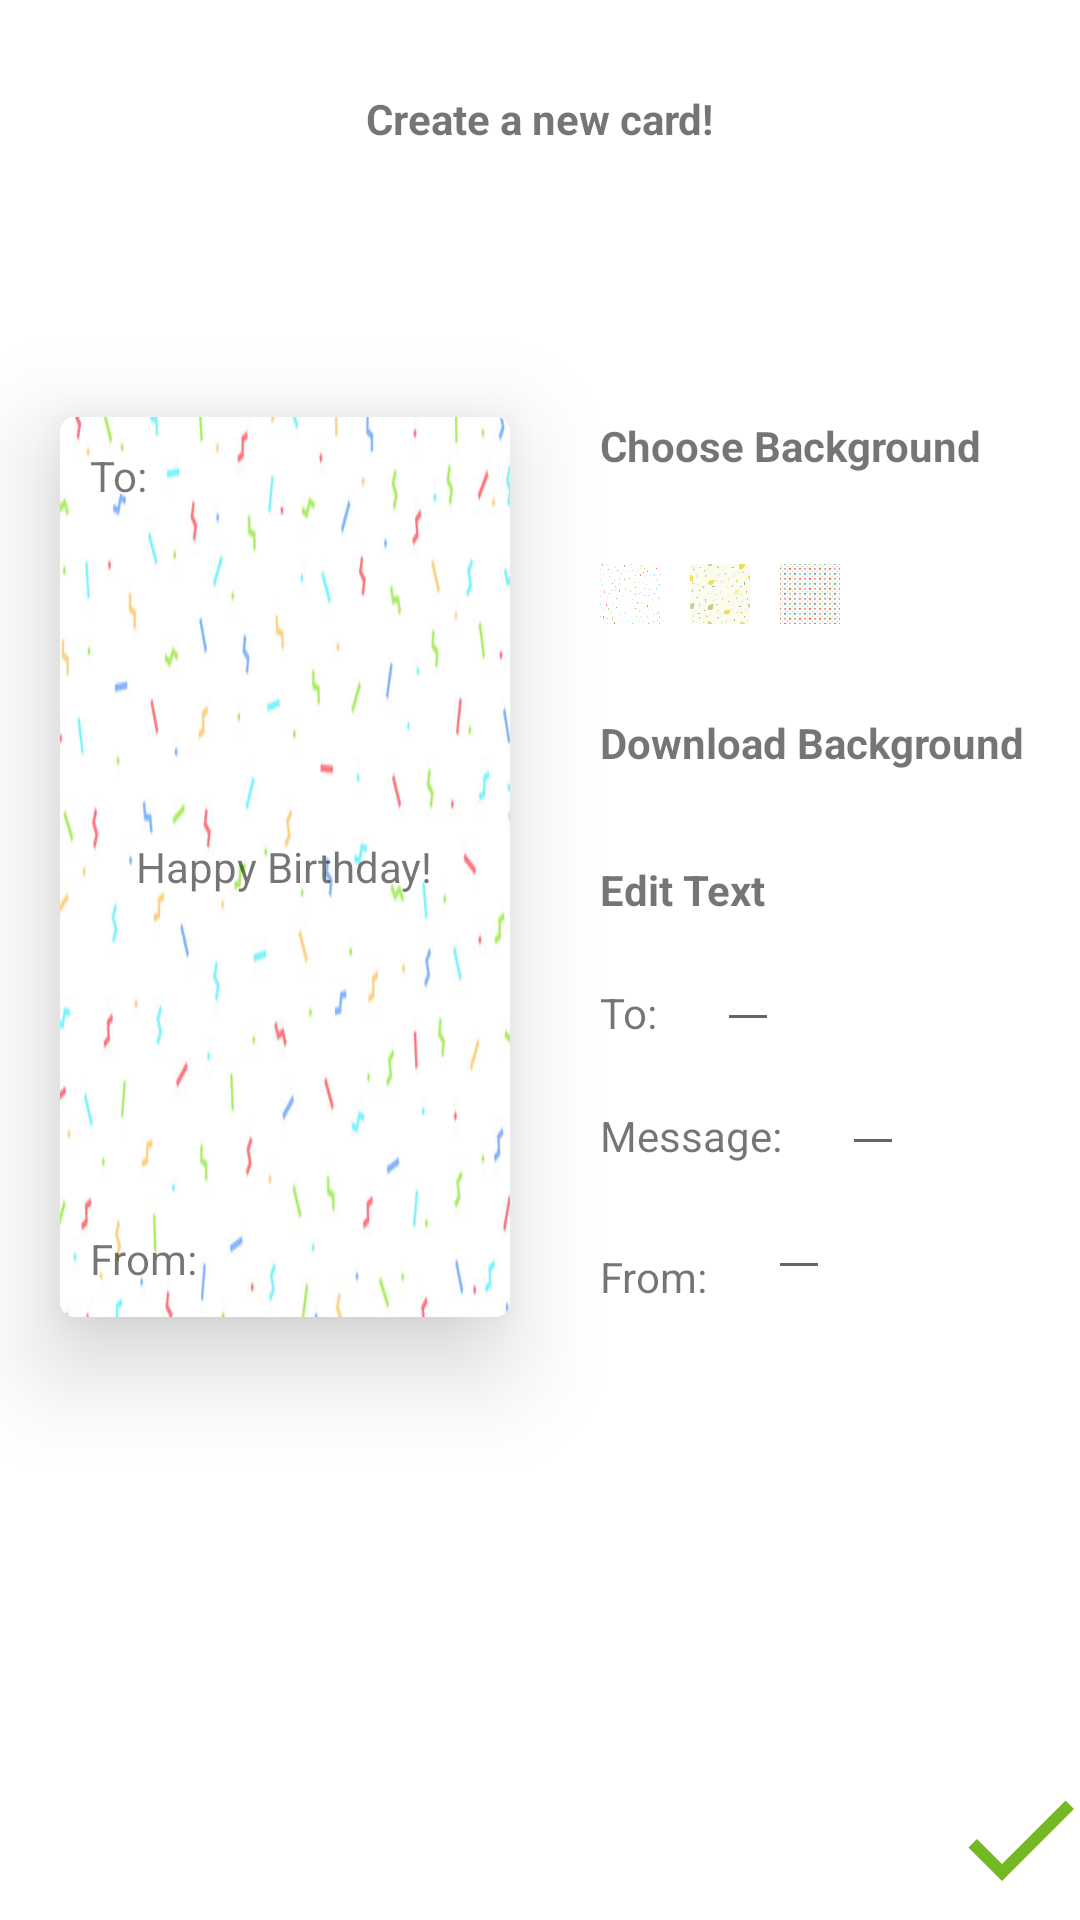

Locate icon controls on the screen. Image size 1080px x 1920px, boxes as bbox=(x1, y1, x2, y2).
check: bbox=(968, 1800, 1074, 1881)
